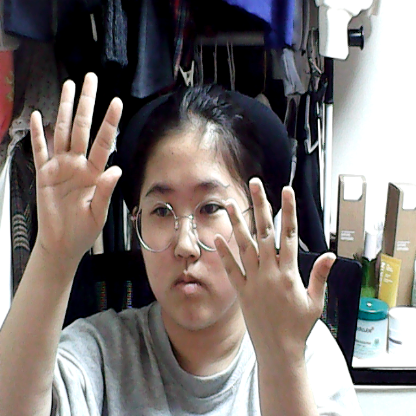Finger_5: (204, 166, 338, 354), (23, 63, 130, 265)
